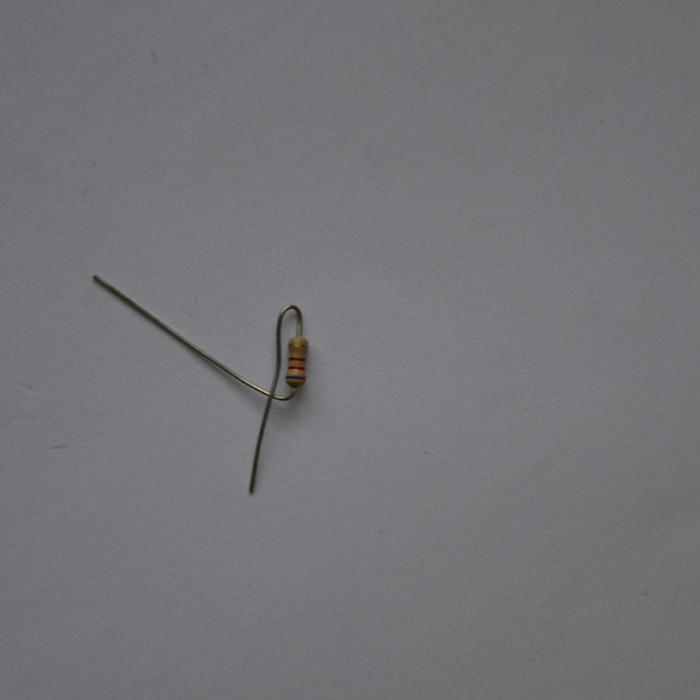resistor: (286, 334, 308, 386)
